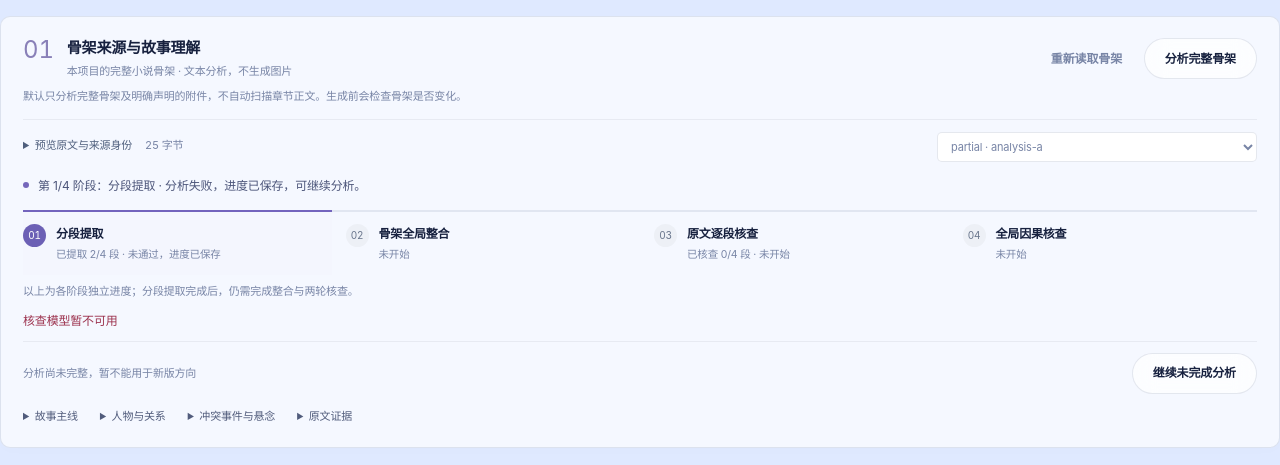
Scenario: a saved failed analysis restores its error, segment progress and same-ID resume
Expected: the text "已提取 2/4 段 · 未通过，进度已保存" is shown, [56, 247, 221, 264]
Expected: the message "核查模型暂不可用" is shown, [23, 313, 118, 328]
Click the button "继续未完成分析" at (1194, 373), box [1132, 353, 1257, 394]
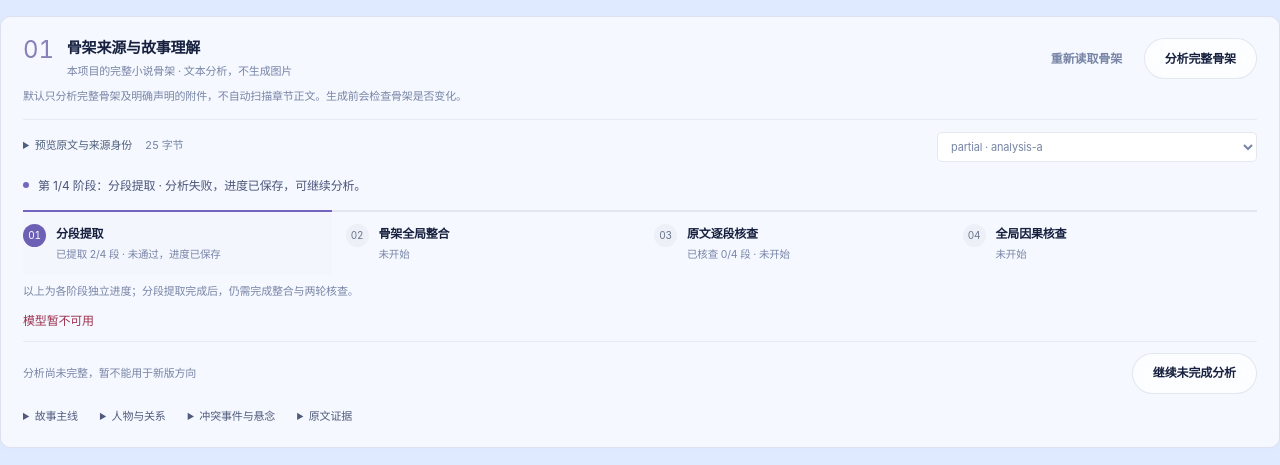
Now the message "模型暂不可用" is shown, box [23, 313, 94, 328]
